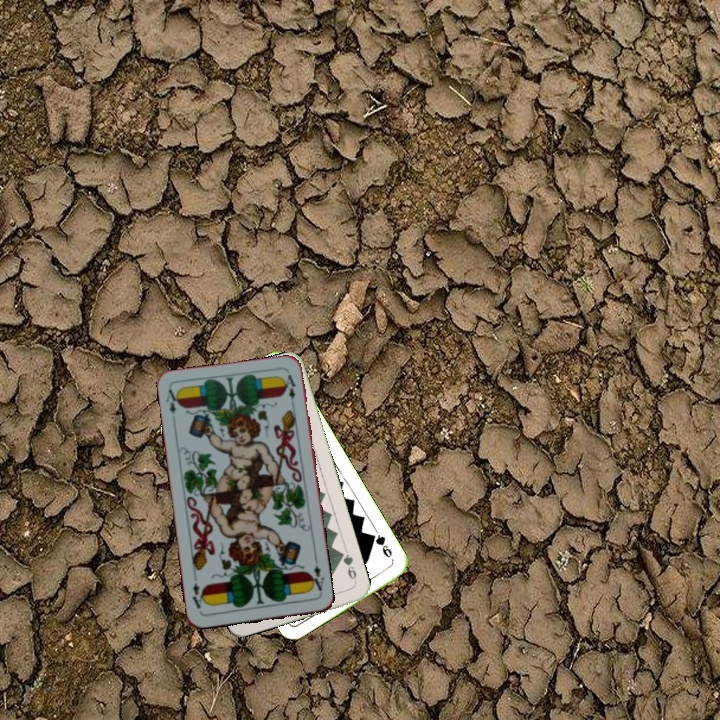EA: (306, 556, 326, 596), (162, 385, 182, 416)
G9: (336, 548, 359, 586), (367, 530, 395, 560)
